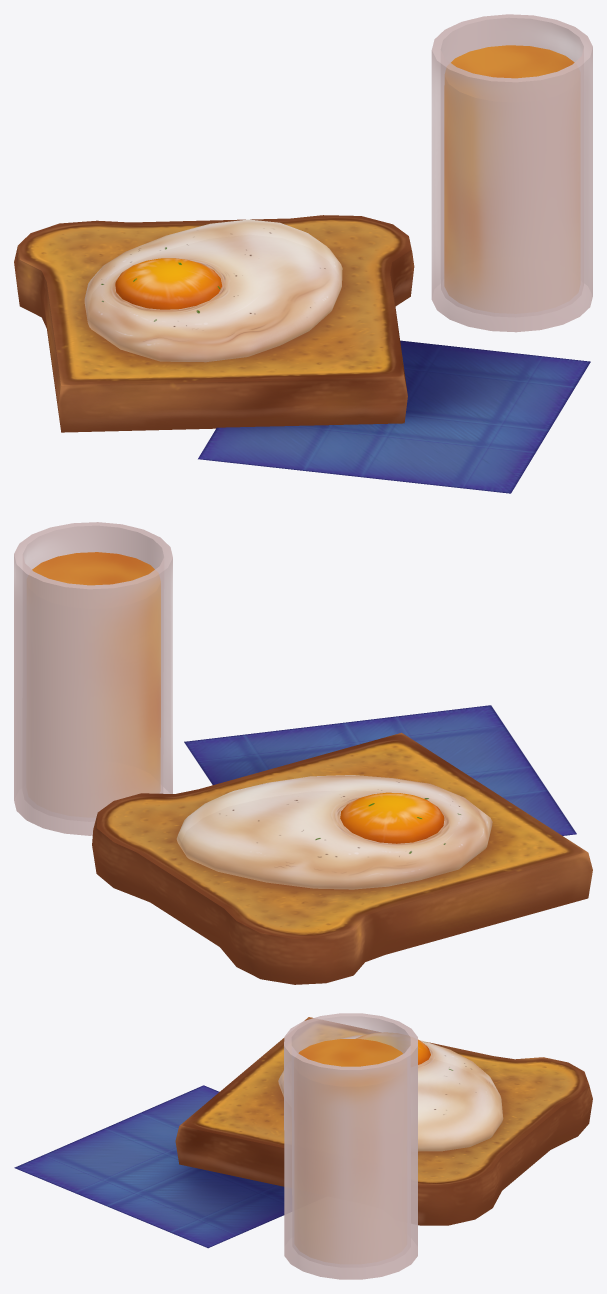
The model's file is omlet-or.glb.
3 views of the same model, one above another, from view 1: azimuth 30°, elevation 25°; view 2: azimuth 150°, elevation 25°; view 3: azimuth 270°, elevation 25° (orthographic). The views are drawn at different scales.
Parts seen in each view (by area): view 1: Toast, Glass, Napkin1, Eggwhite, Drink, Eggyolk; view 2: Toast, Glass, Eggwhite, Napkin1, Drink, Eggyolk; view 3: Glass, Toast, Napkin1, Drink, Eggwhite, Eggyolk.
Boxes of the visible parts, x1=… form: Toast: x1=14, y1=215, x2=414, y2=432; Glass: x1=431, y1=14, x2=592, y2=332; Napkin1: x1=198, y1=340, x2=590, y2=493; Eggwhite: x1=84, y1=219, x2=342, y2=362; Drink: x1=444, y1=45, x2=574, y2=304; Eggyolk: x1=115, y1=258, x2=222, y2=309; Toast: x1=92, y1=732, x2=592, y2=984; Glass: x1=14, y1=522, x2=172, y2=835; Eggwhite: x1=176, y1=775, x2=492, y2=889; Napkin1: x1=184, y1=705, x2=576, y2=835; Drink: x1=32, y1=552, x2=160, y2=801; Eggyolk: x1=340, y1=792, x2=444, y2=843; Glass: x1=284, y1=1013, x2=417, y2=1279; Toast: x1=175, y1=1017, x2=592, y2=1225; Napkin1: x1=14, y1=1085, x2=284, y2=1248; Drink: x1=298, y1=1039, x2=402, y2=1246; Eggwhite: x1=278, y1=1035, x2=503, y2=1151; Eggyolk: x1=356, y1=1033, x2=430, y2=1064.
Bounding box in the file's own units: 0.1179 × 0.0513 × 0.1282.
6 materials, 6 textured.
